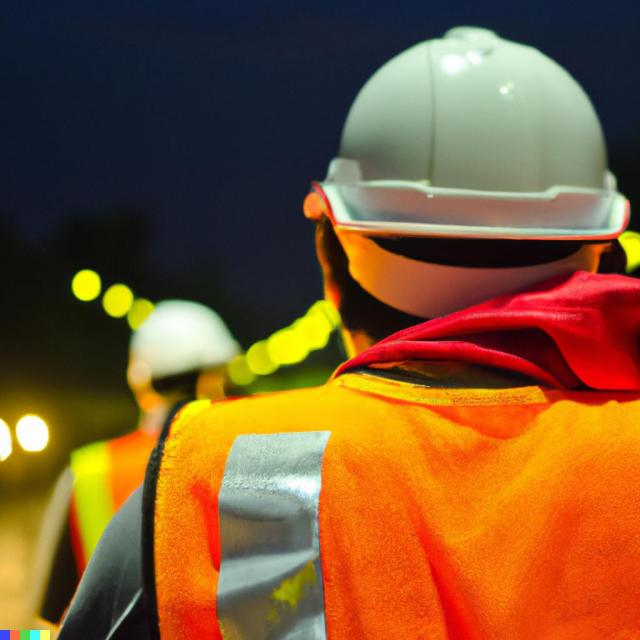Reflective-Jacket: (25, 302, 640, 636)
Safety-Helmet: (303, 25, 640, 262), (120, 294, 248, 388)
